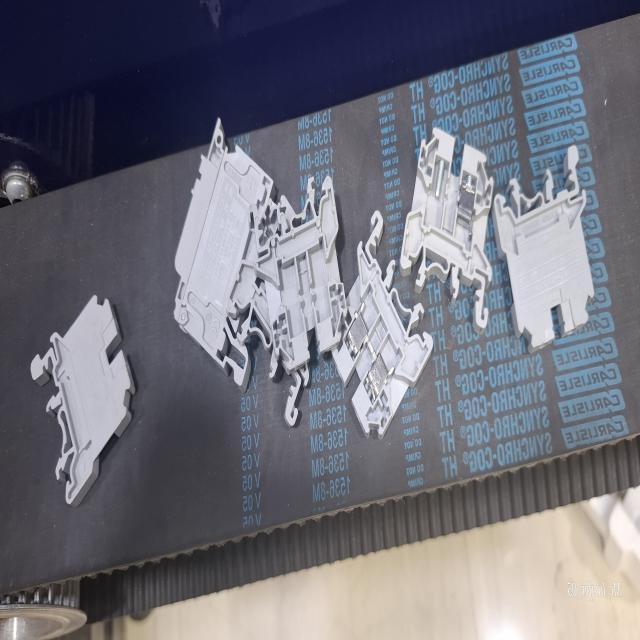Inverted: (29, 291, 138, 511), (501, 141, 598, 359)
Pass: (332, 209, 434, 437)
Reject: (394, 124, 494, 329), (246, 174, 348, 368)
